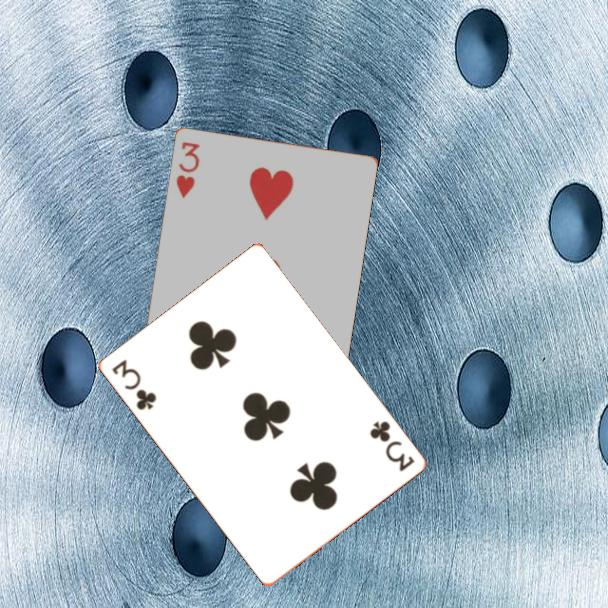c03: (108, 355, 159, 413), (366, 417, 417, 474)
h03: (172, 138, 202, 201)
